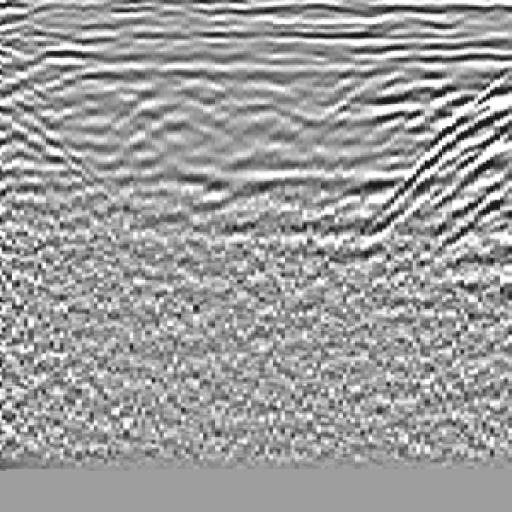metalic: (146, 48, 316, 255)
nonmetalic: (368, 73, 512, 258)
